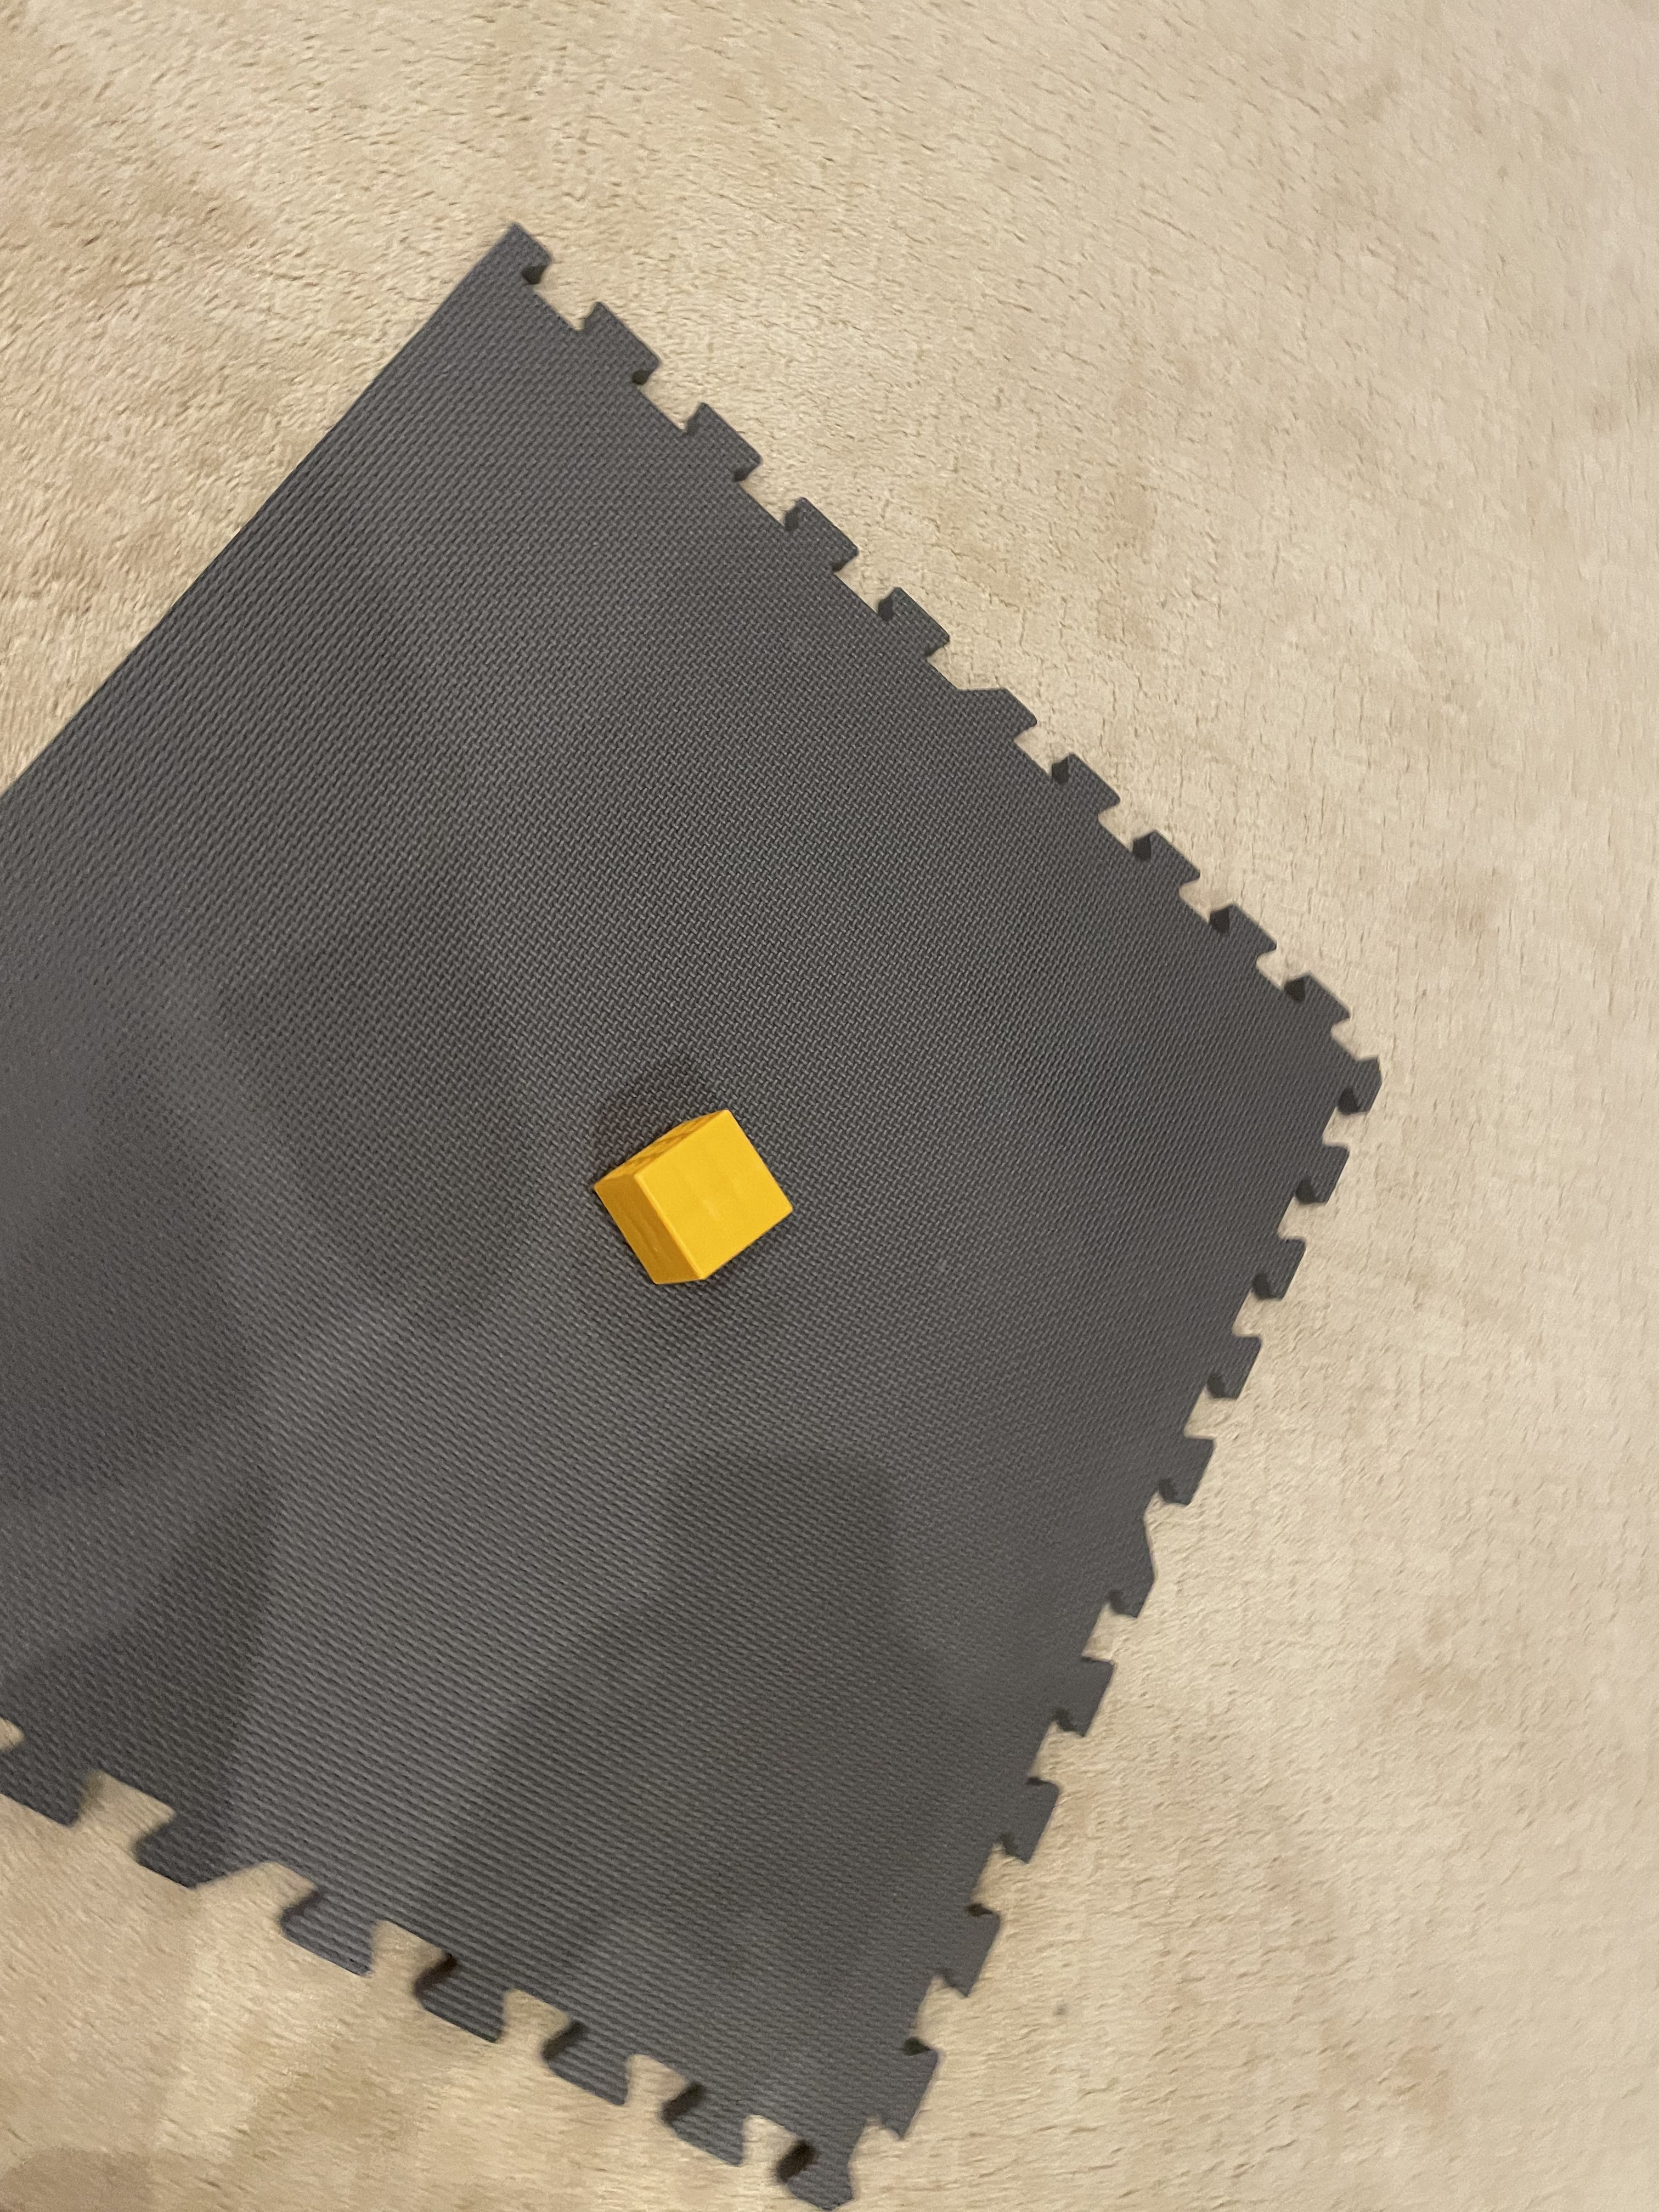cube: (566, 1089, 831, 1318)
